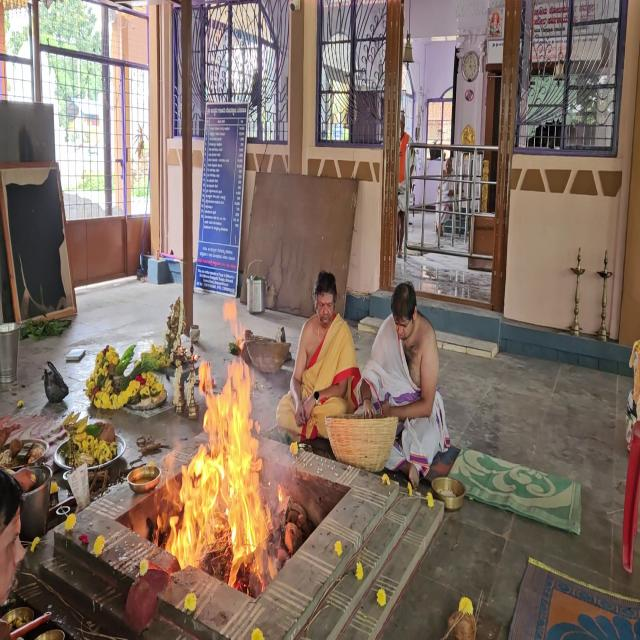fire: (156, 283, 282, 596)
